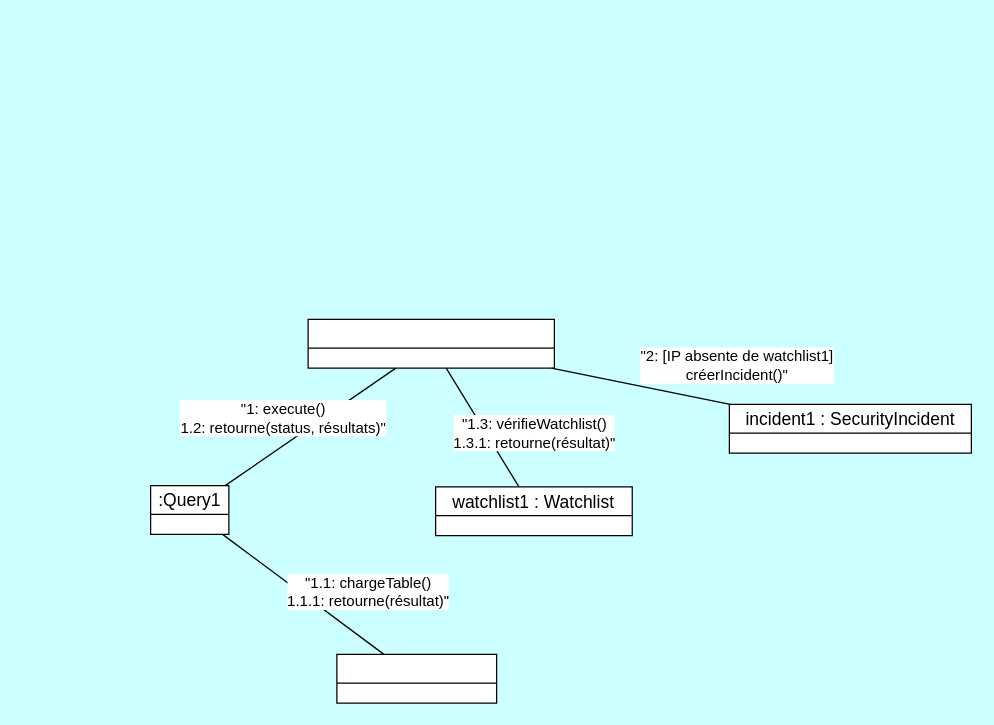
Some shapes in this 994 by 725 pixel diagram are drawn without their labels. Here are the shapes that lost their labels. From the top down, the centre of each, then its label:
At pixel 430 343: "rule1 : CustomAnalyticsRule".
At pixel 416 678: "table1 : LogTable".
